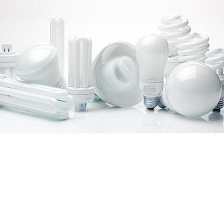light_bulb: (81, 39, 150, 112), (154, 57, 223, 119), (0, 70, 77, 123), (13, 40, 72, 103), (153, 12, 194, 100), (133, 30, 170, 113), (63, 30, 96, 114), (174, 29, 209, 106), (45, 12, 68, 102), (202, 44, 224, 118), (0, 40, 23, 94)
